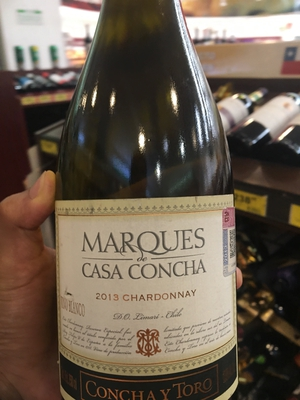marques de casa concha chardonnay: (47, 33, 245, 400)
